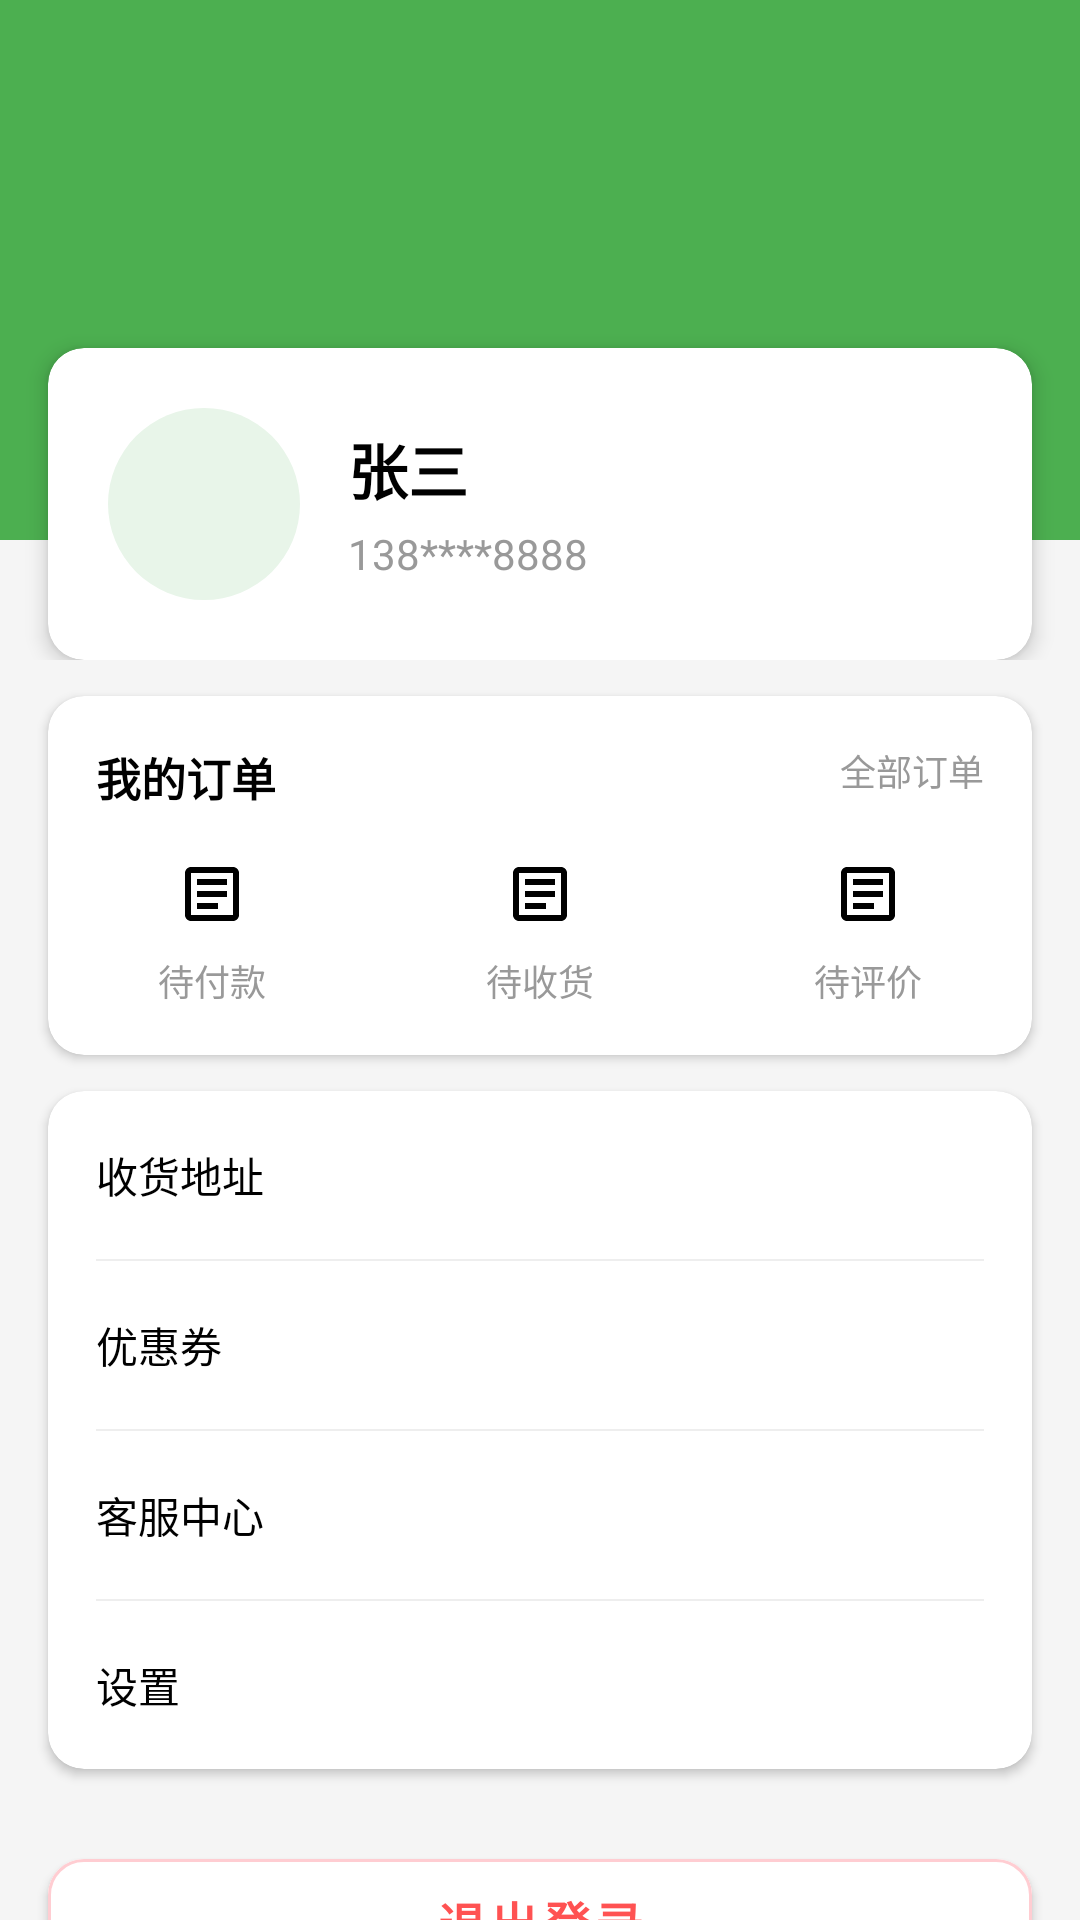

Named icons in this screenshot (1080w x 1920h) and their bounding boxes, (x1, y1, x2, y2):
orders: (185, 867, 239, 921), (513, 867, 567, 921), (841, 867, 895, 921)
